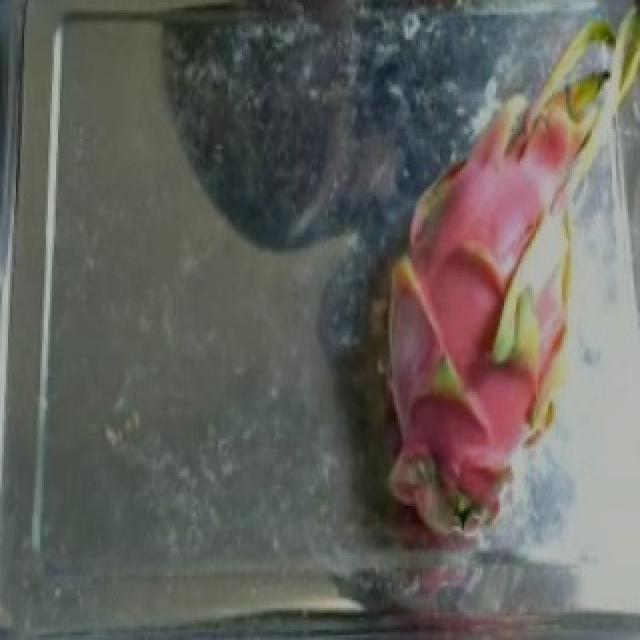fruit: (344, 161, 638, 561)
